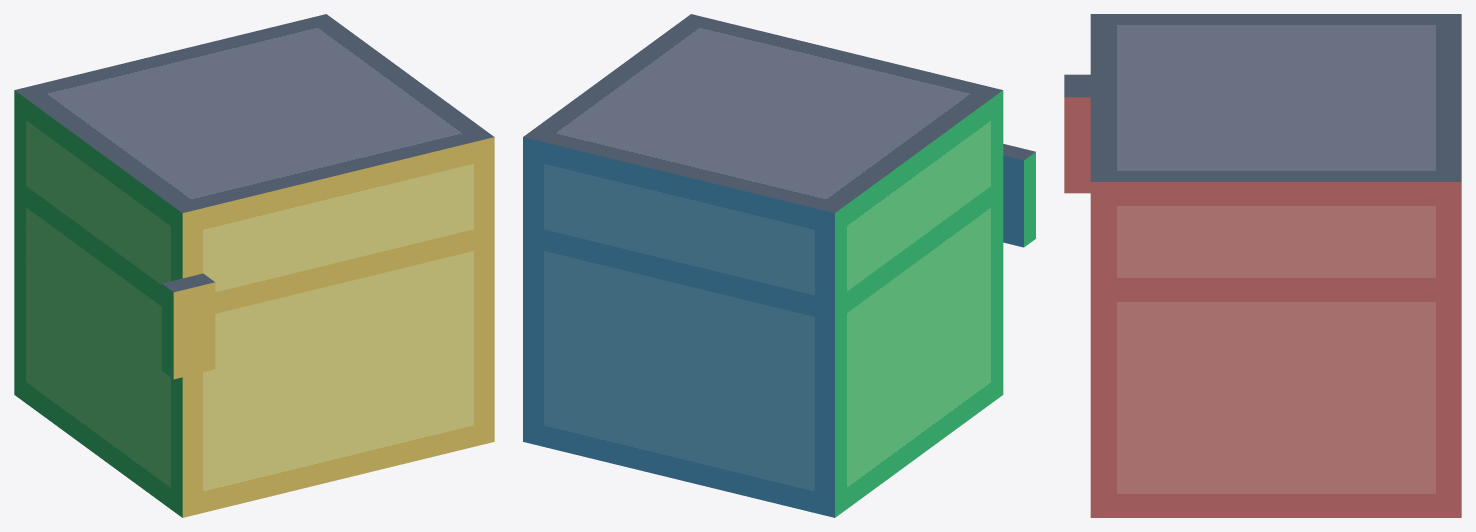
Rendered from chest_left.gltf.
The picture shows the model from 3 angles, left to right: view 1: azimuth 30°, elevation 25°; view 2: azimuth 150°, elevation 25°; view 3: azimuth 270°, elevation 25°; orthographic projection. The views are drawn at different scales.
Parts seen in each view (by area): view 1: cube (×3); view 2: cube (×3); view 3: cube (×3).
Part boxes in pixels (left/top/right/bottom): cube (×3): left=14, top=14, right=494, bottom=517; cube (×3): left=523, top=14, right=1035, bottom=517; cube (×3): left=1064, top=14, right=1461, bottom=517.
Size of the model in its own units: 1 by 0.875 by 0.9375.
1 material, 1 textured.
